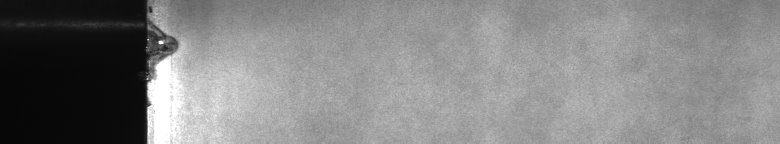hb: (156, 18, 186, 79)
